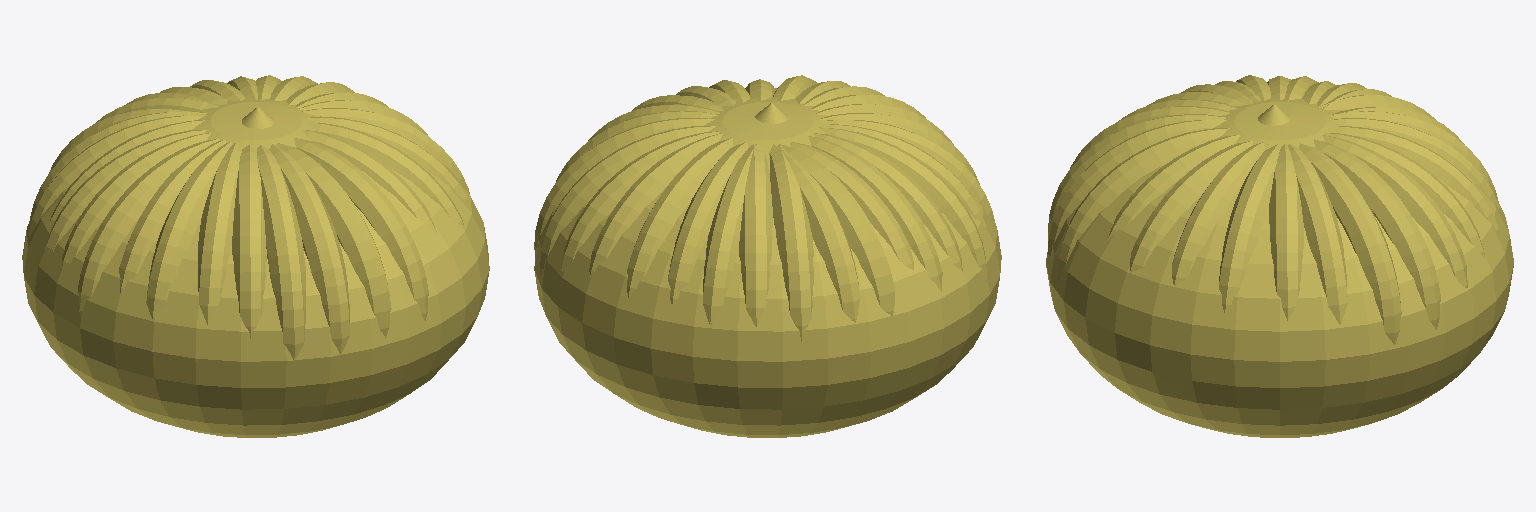
The model's file is dumpling.obj.
3 renders of one model, left to right at view 1: azimuth 30°, elevation 25°; view 2: azimuth 150°, elevation 25°; view 3: azimuth 270°, elevation 25°, orthographic.
Parts seen in each view (by area): view 1: Sphere.001_Sphere.000, Torus.019_Torus.002, Torus.021_Torus.018, Torus.023_Torus.020, Torus.018_Torus.022, Torus.022_Torus.019, Torus.016, Torus.017_Torus.021, Torus.014, Torus.015, Torus, Torus.024_Torus.023 (+14 smaller); view 2: Sphere.001_Sphere.000, Torus.007, Torus.005, Torus.006, Torus.002_Torus.001, Torus.003_Torus.004, Torus.008, Torus.004_Torus.003, Torus.009, Torus.014, Torus.013, Torus.011 (+15 smaller); view 3: Sphere.001_Sphere.000, Torus.012, Torus.011, Torus.025_Torus.024, Torus.028_Torus.027, Torus.027_Torus.026, Torus.023_Torus.020, Torus.010, Torus.026_Torus.025, Torus.024_Torus.023, Torus.022_Torus.019, Torus.008 (+10 smaller).
Part boxes in pixels (x1,y1,x2,y2): Sphere.001_Sphere.000: (22,98,489,437); Torus.019_Torus.002: (257,145,305,361); Torus.021_Torus.018: (269,144,349,354); Torus.023_Torus.020: (294,138,428,320); Torus.018_Torus.022: (232,144,266,338); Torus.022_Torus.019: (277,143,391,337); Torus.016: (146,142,231,318); Torus.017_Torus.021: (198,143,241,324); Torus.014: (78,139,219,313); Torus.015: (119,140,225,292); Torus: (61,133,210,271); Torus.024_Torus.023: (308,123,464,228); Sphere.001_Sphere.000: (534,88,1001,437); Torus.007: (770,144,813,342); Torus.005: (739,144,772,326); Torus.006: (769,144,859,322); Torus.002_Torus.001: (780,144,894,316); Torus.003_Torus.004: (703,144,762,325); Torus.008: (627,138,732,299); Torus.004_Torus.003: (668,142,748,306); Torus.009: (589,133,722,277); Torus.014: (819,127,986,281); Torus.013: (808,136,942,291); Torus.011: (540,126,715,275); Sphere.001_Sphere.000: (1046,98,1513,437); Torus.012: (1299,143,1401,344); Torus.011: (1314,139,1440,329); Torus.025_Torus.024: (1288,144,1347,324); Torus.028_Torus.027: (1219,144,1280,313); Torus.027_Torus.026: (1269,144,1303,320); Torus.023_Torus.020: (1058,128,1229,282); Torus.010: (1322,135,1467,287); Torus.026_Torus.025: (1172,142,1264,286); Torus.024_Torus.023: (1130,141,1252,272); Torus.022_Torus.019: (1047,120,1226,262); Torus.008: (1330,126,1501,238).
Size of the model in its own units: 2.2 by 1.57 by 2.2.